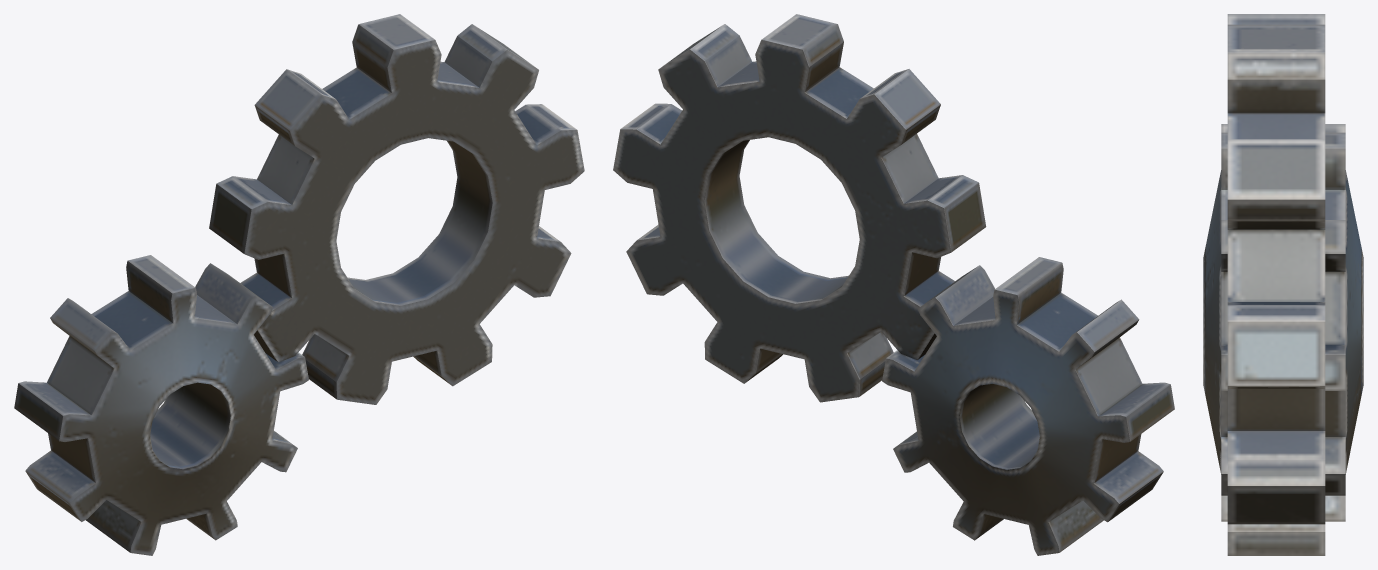
Rendered from Gear.fbx.
The picture shows the model from 3 angles, left to right: view 1: azimuth 30°, elevation 25°; view 2: azimuth 150°, elevation 25°; view 3: azimuth 270°, elevation 25°; orthographic projection. The views are drawn at different scales.
Visible parts, largest first — view 1: Gear; view 2: Gear; view 3: Gear.
Part boxes in pixels (x1,y1,x2,y2): Gear: (14, 14, 584, 555); Gear: (613, 14, 1174, 555); Gear: (1203, 14, 1363, 555).
Size of the model in its own units: 1.13 by 0.9134 by 0.2152.
